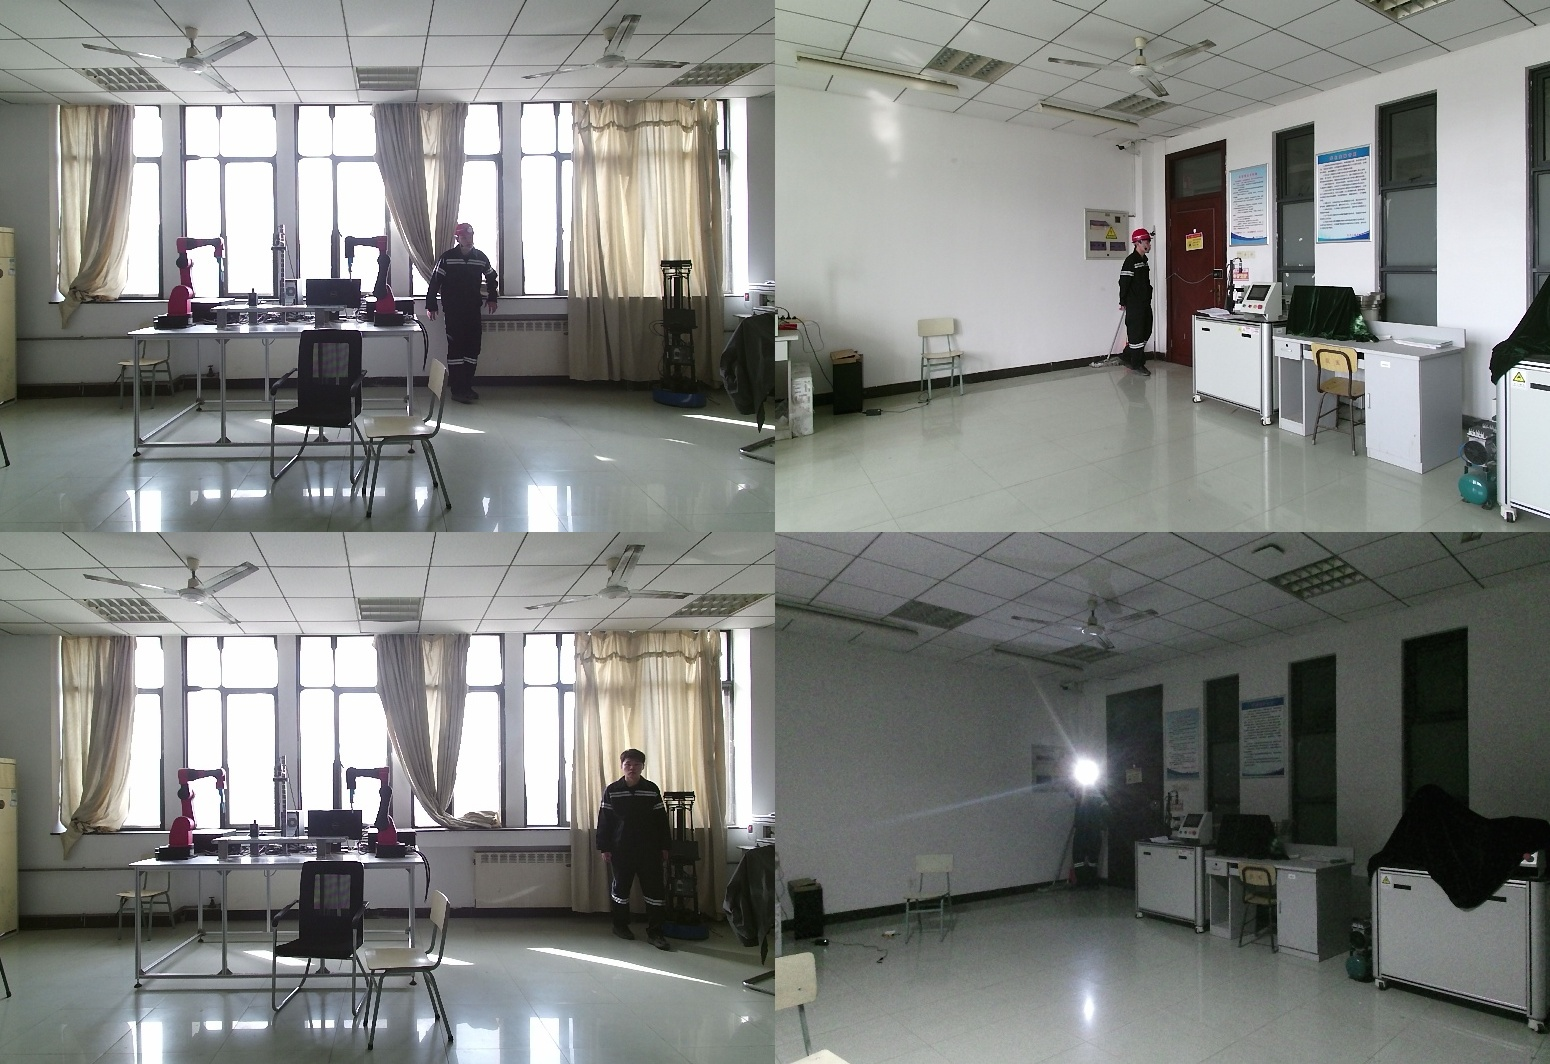person: (596, 750, 683, 946), (427, 225, 502, 413), (1114, 229, 1155, 379), (1063, 768, 1108, 886)
